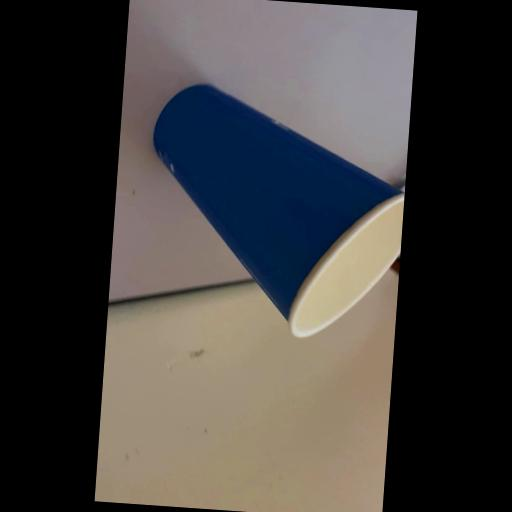lp_paper_cup: (140, 80, 412, 348)
